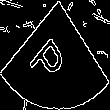P_NE: (32, 24, 78, 86)
